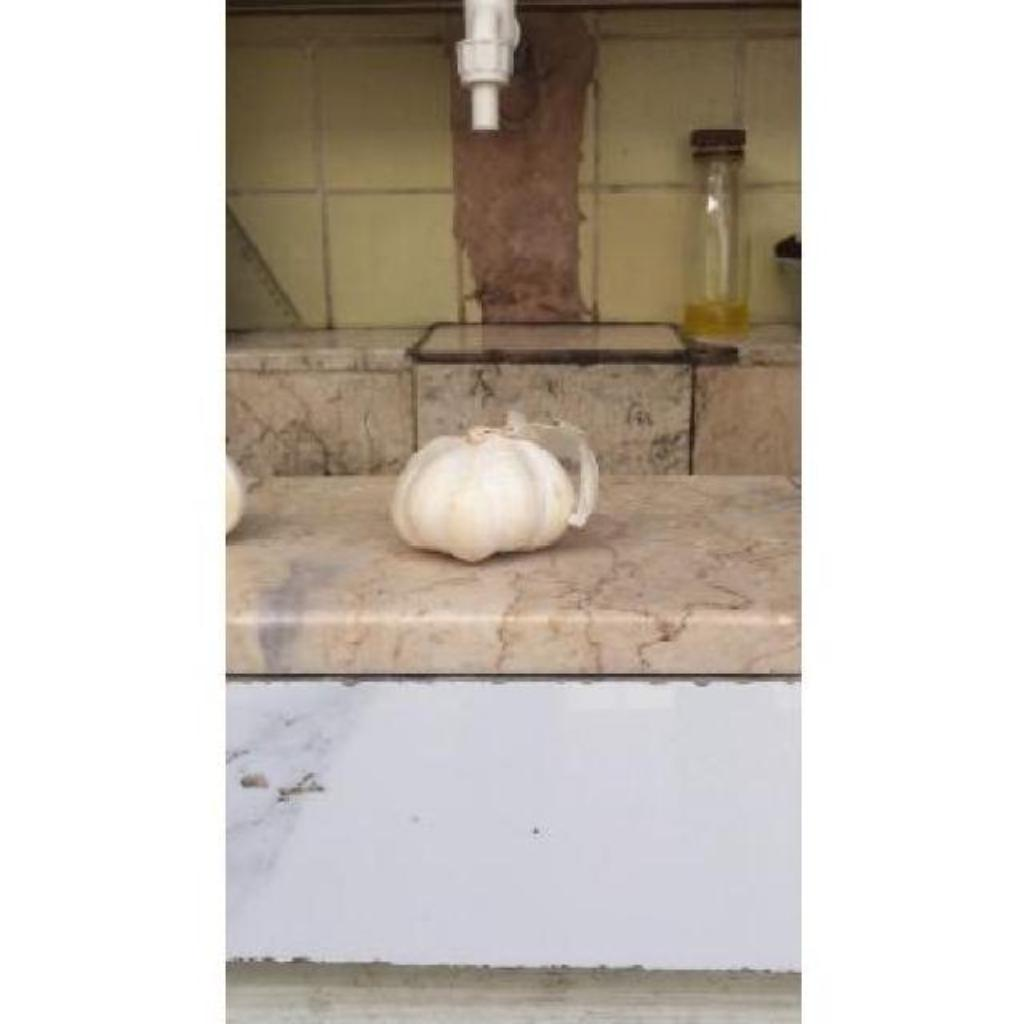garlic: (392, 412, 598, 561)
